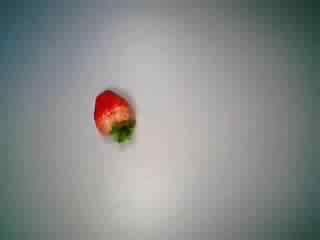strawberry: (84, 81, 150, 143)
